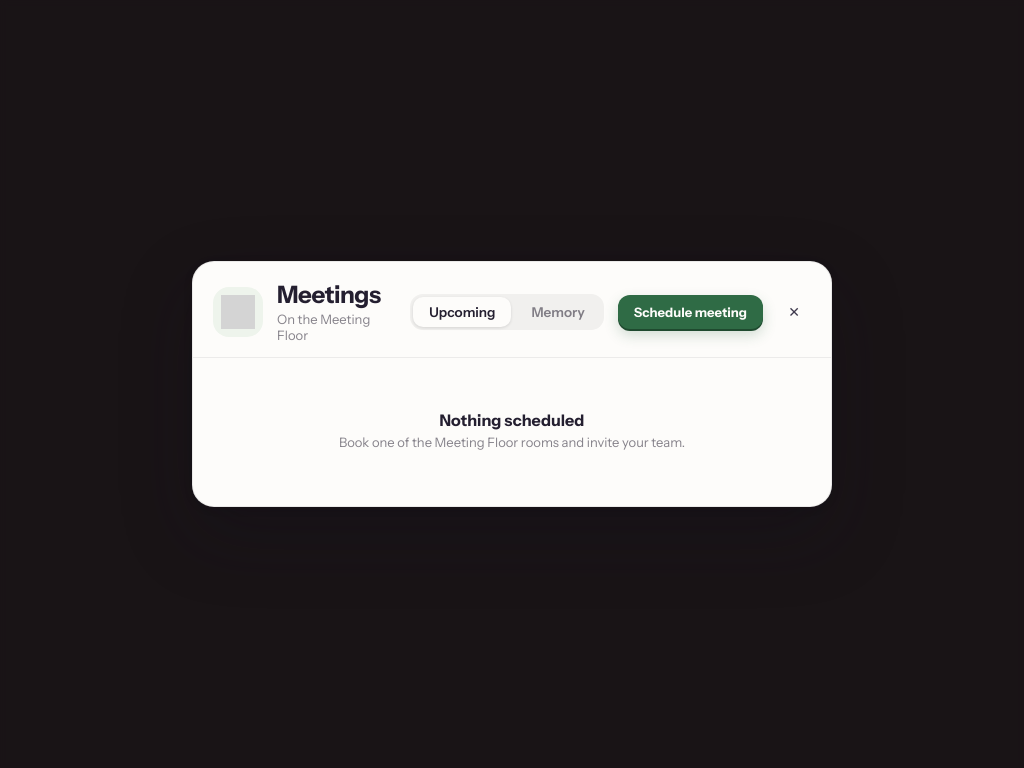
Test: Ask your Memory › is offered at the Memory level and opens a broader, clearly named view
Click the tab "Memory": (558, 312) [516,296,601,326]
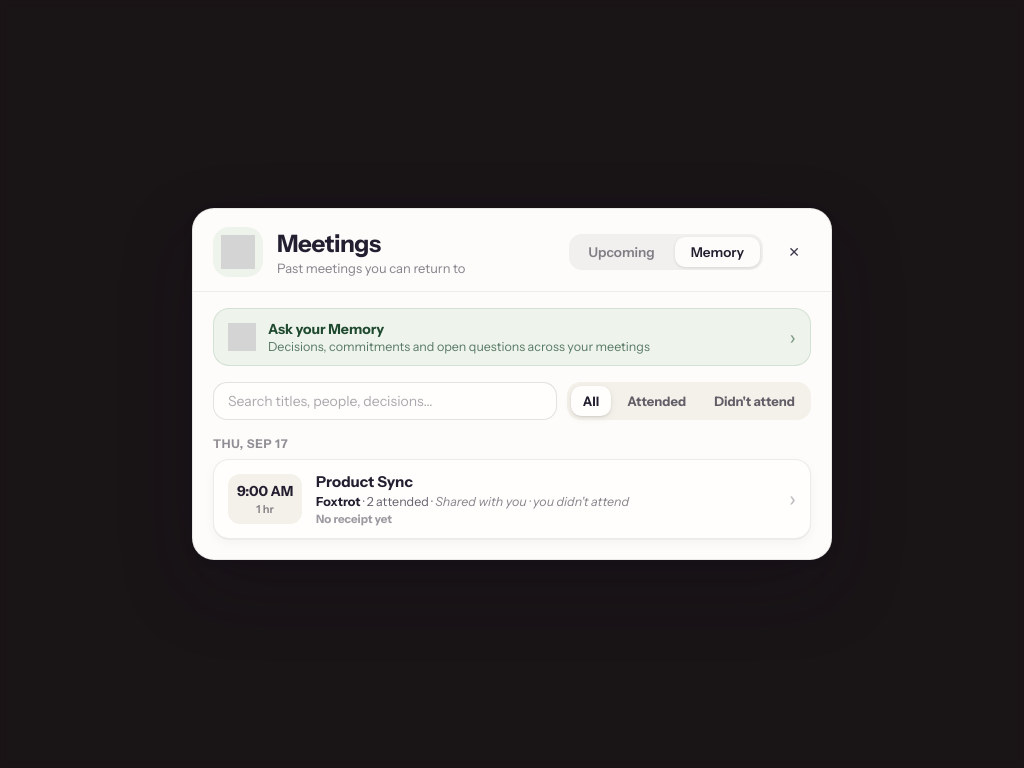
In the search field: (385, 401) [213,382,557,420], type "launch"
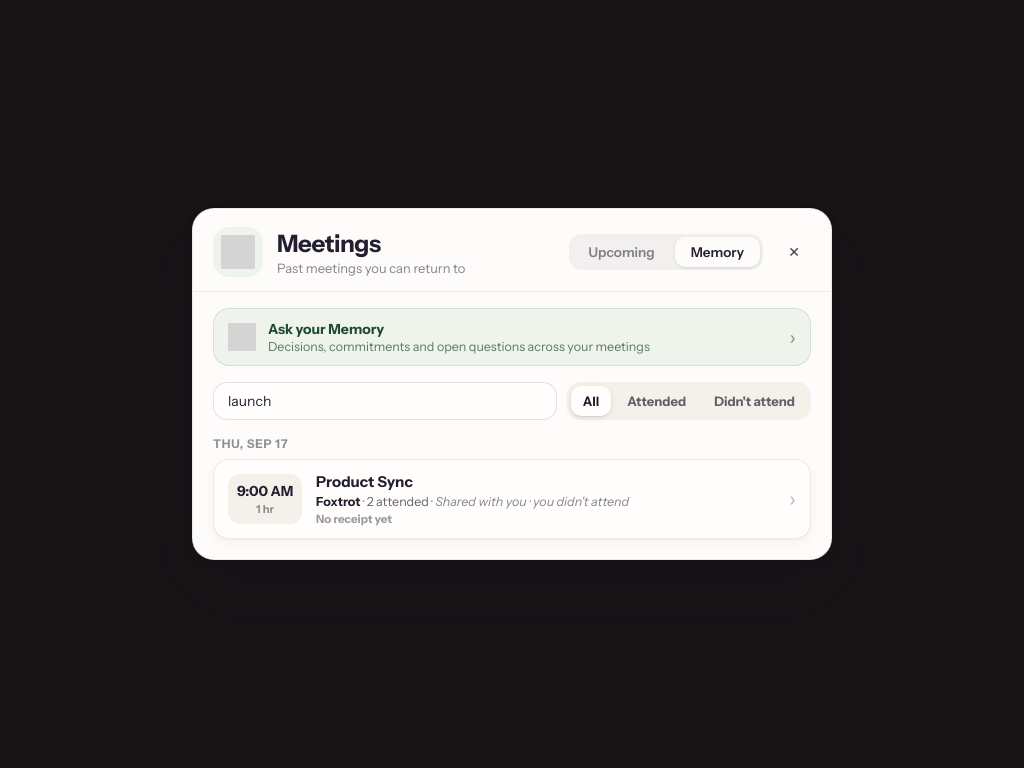
Click the button with test id "memory-ask": (512, 337) [213,308,811,366]
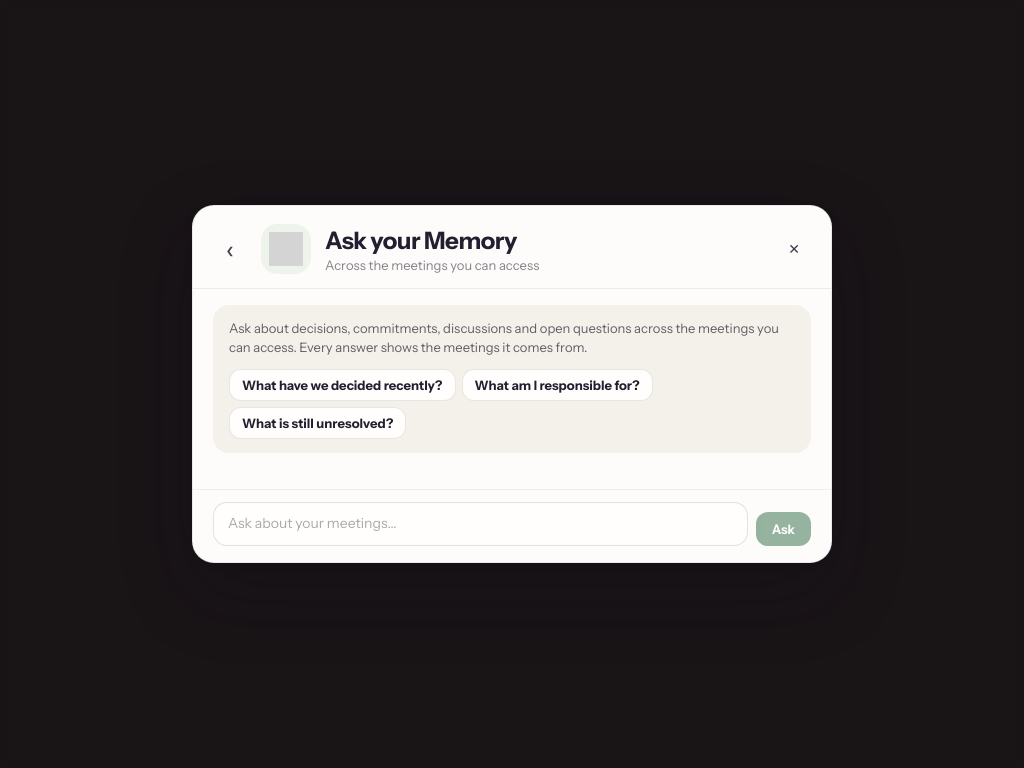
Now the element with test id "org-twin" is shown, box [193,289,831,489]
Now the heading "Ask your Memory" is shown, box [325,226,517,255]
Now the element with test id "orgtwin-intro" shows "across the meetings you can access", box [229,320,779,355]
